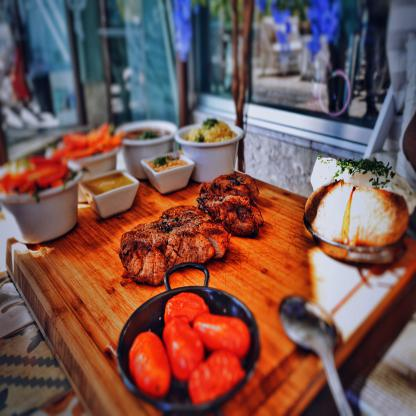Carne: (120, 203, 225, 284), (199, 171, 263, 238)
